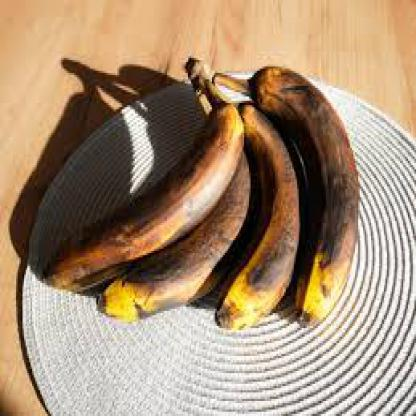banana_rotten: (44, 42, 370, 350)
